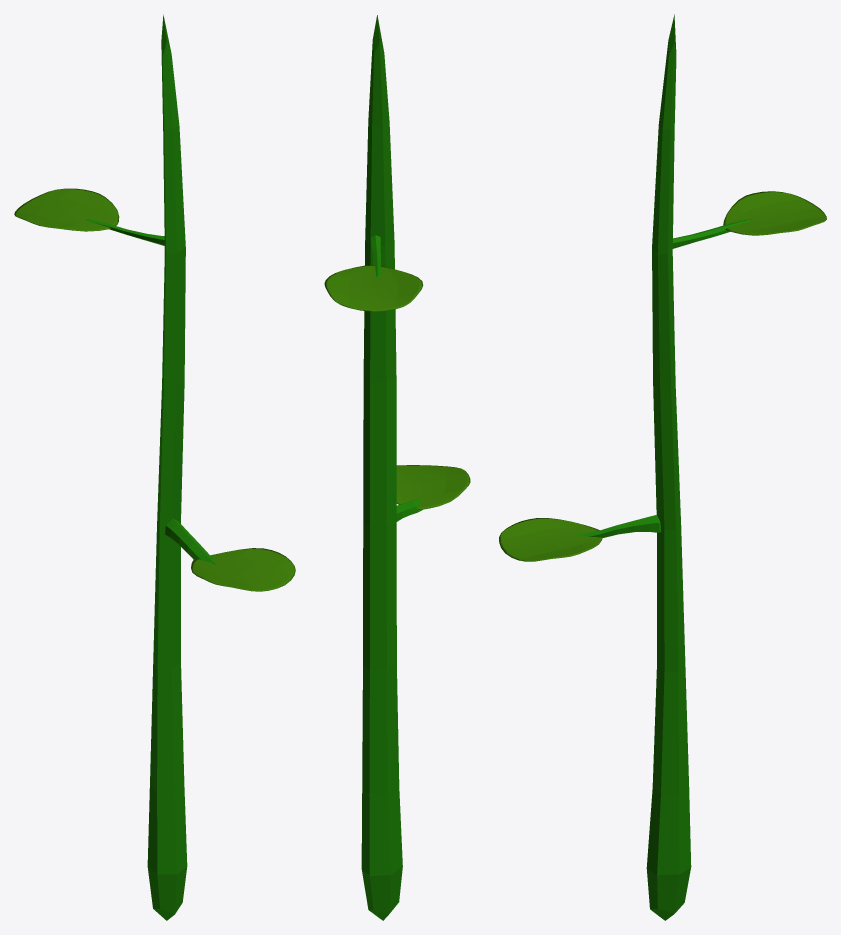
The model's file is BES Growth SDM .fbx.
3 views of the same model, side by side, from view 1: azimuth 30°, elevation 25°; view 2: azimuth 150°, elevation 25°; view 3: azimuth 270°, elevation 25° (orthographic).
Parts seen in each view (by area): view 1: Cylinder.004; view 2: Cylinder.004; view 3: Cylinder.004.
Boxes of the visible parts, box(x1,y1,x2,y2) form: Cylinder.004: box(14, 14, 295, 920); Cylinder.004: box(324, 15, 470, 920); Cylinder.004: box(499, 14, 826, 920).
Size of the model in its own units: 75.14 by 426 by 140.
